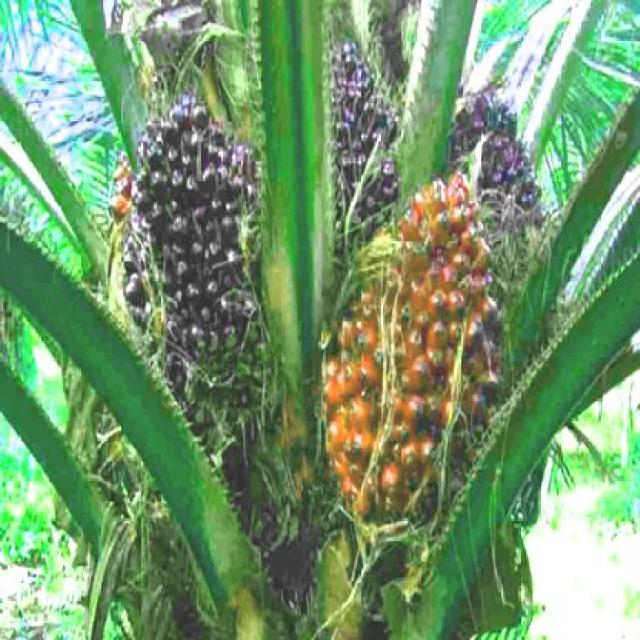palm-oil: (315, 193, 518, 554), (118, 104, 266, 457), (315, 40, 409, 240), (442, 84, 546, 219)
